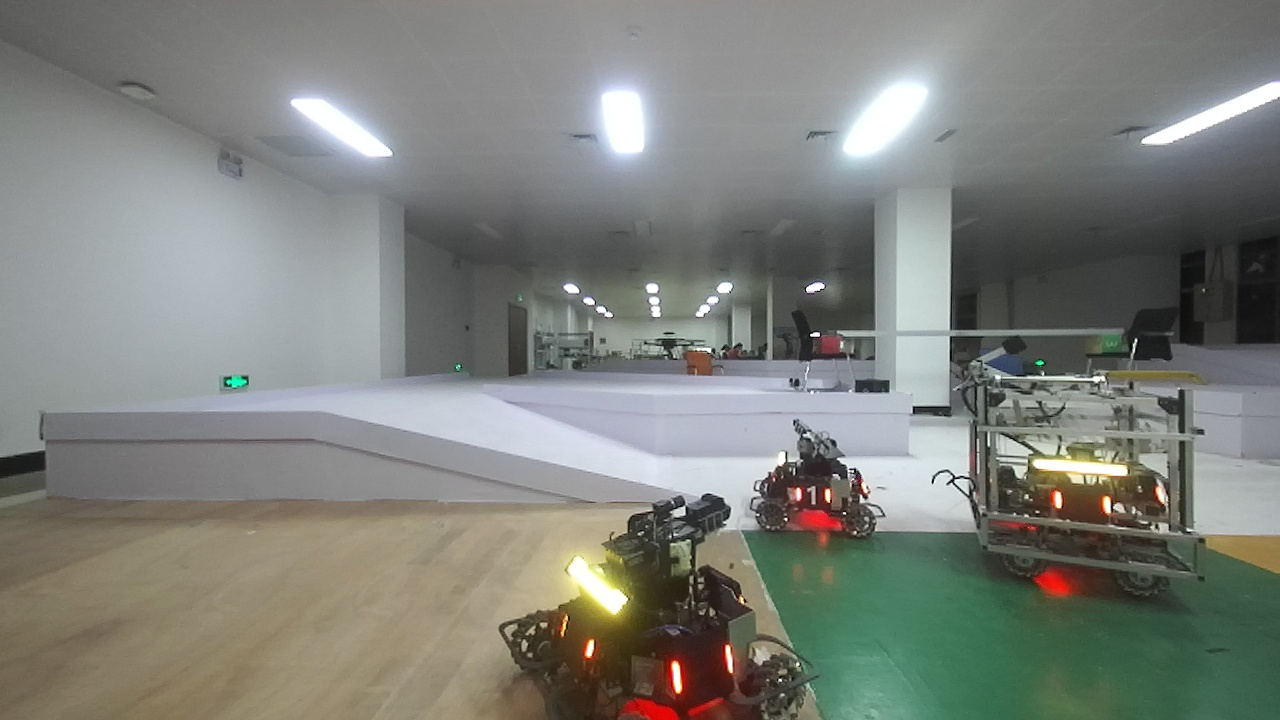car: (502, 499, 802, 720), (970, 362, 1211, 596), (774, 416, 877, 556)
